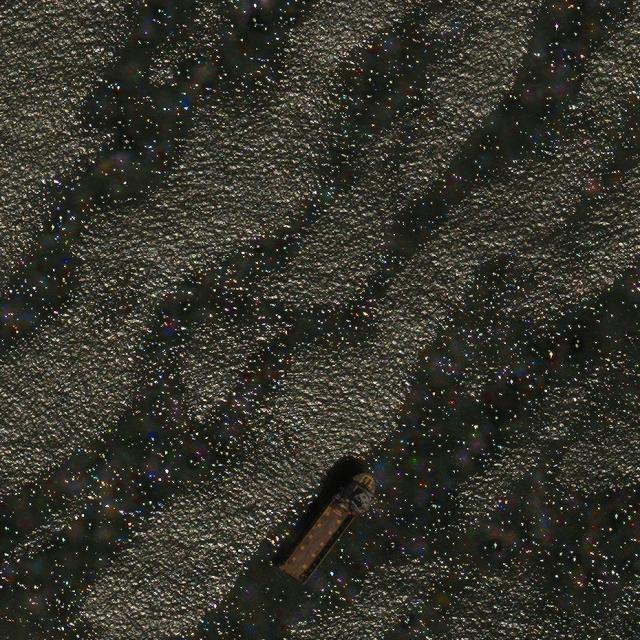Cargo: (273, 458, 388, 593)
